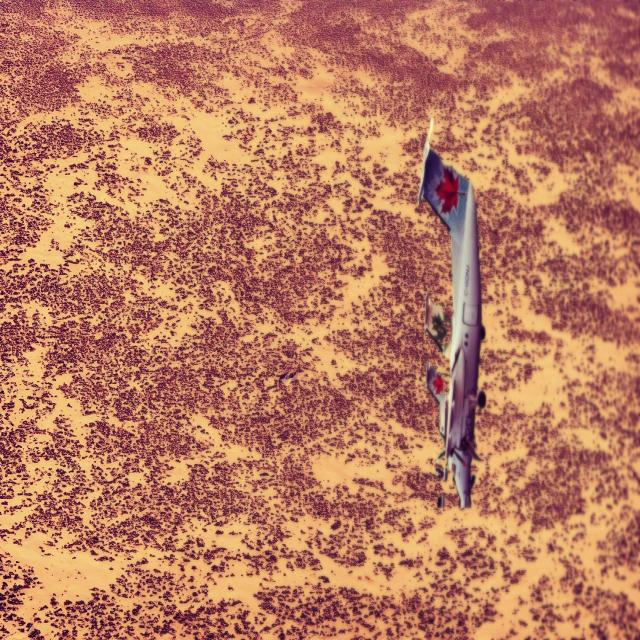airplane: (416, 117, 486, 510)
